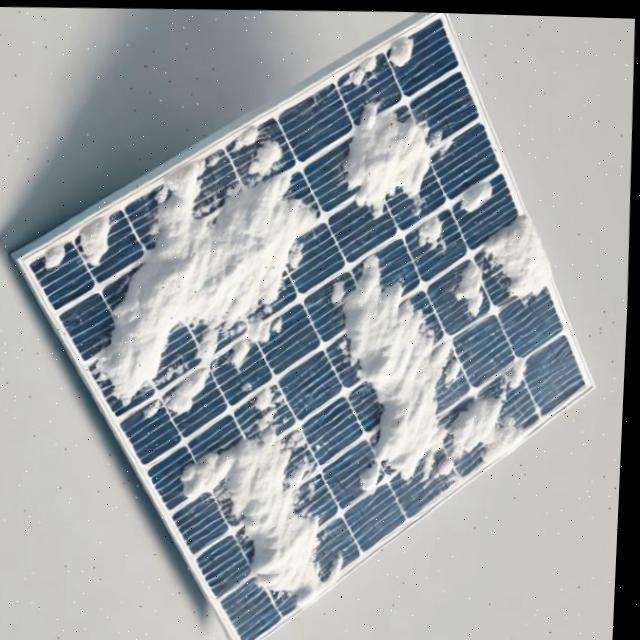Anomaly Solar Panel: (21, 10, 629, 640)
Snow: (88, 107, 350, 450), (158, 370, 412, 621), (325, 230, 546, 493), (331, 92, 462, 231), (475, 206, 561, 311), (75, 212, 133, 270), (456, 256, 488, 314), (457, 173, 501, 215), (342, 48, 381, 93), (41, 236, 78, 276), (419, 212, 455, 247), (229, 122, 268, 154), (387, 29, 418, 67)
